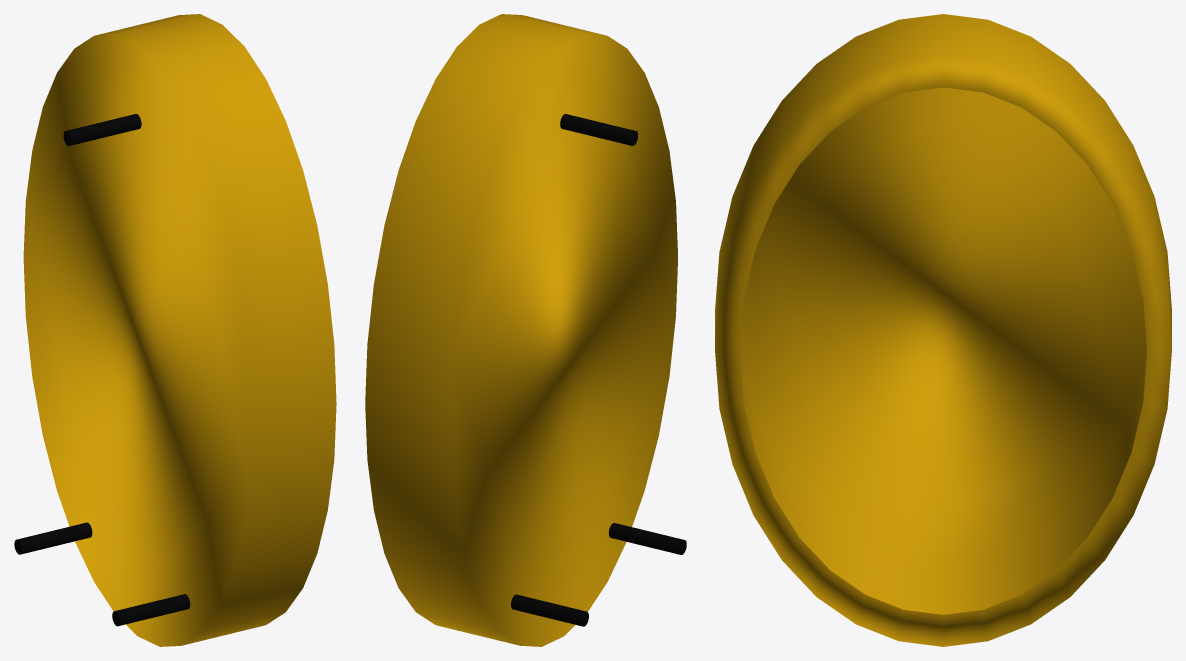
File: wandleuchteEinzeln.glb
3 renders of one model, left to right at view 1: azimuth 30°, elevation 25°; view 2: azimuth 150°, elevation 25°; view 3: azimuth 270°, elevation 25°, orthographic.
Visible parts, largest first — view 1: WandleuchteEinzeln; view 2: WandleuchteEinzeln; view 3: WandleuchteEinzeln.
Part boxes in pixels (box(x1,y1,x2,y2)): WandleuchteEinzeln: box(14, 14, 336, 646); WandleuchteEinzeln: box(365, 14, 686, 646); WandleuchteEinzeln: box(715, 14, 1171, 646).
Bounding box in the file's own units: 0.5486 × 2 × 1.4.
